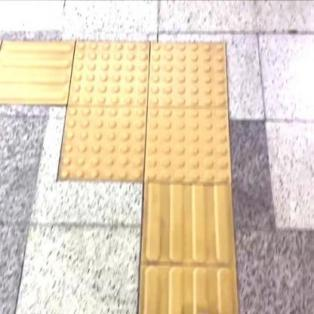Podoctatil: (44, 22, 249, 218), (142, 189, 238, 313)
